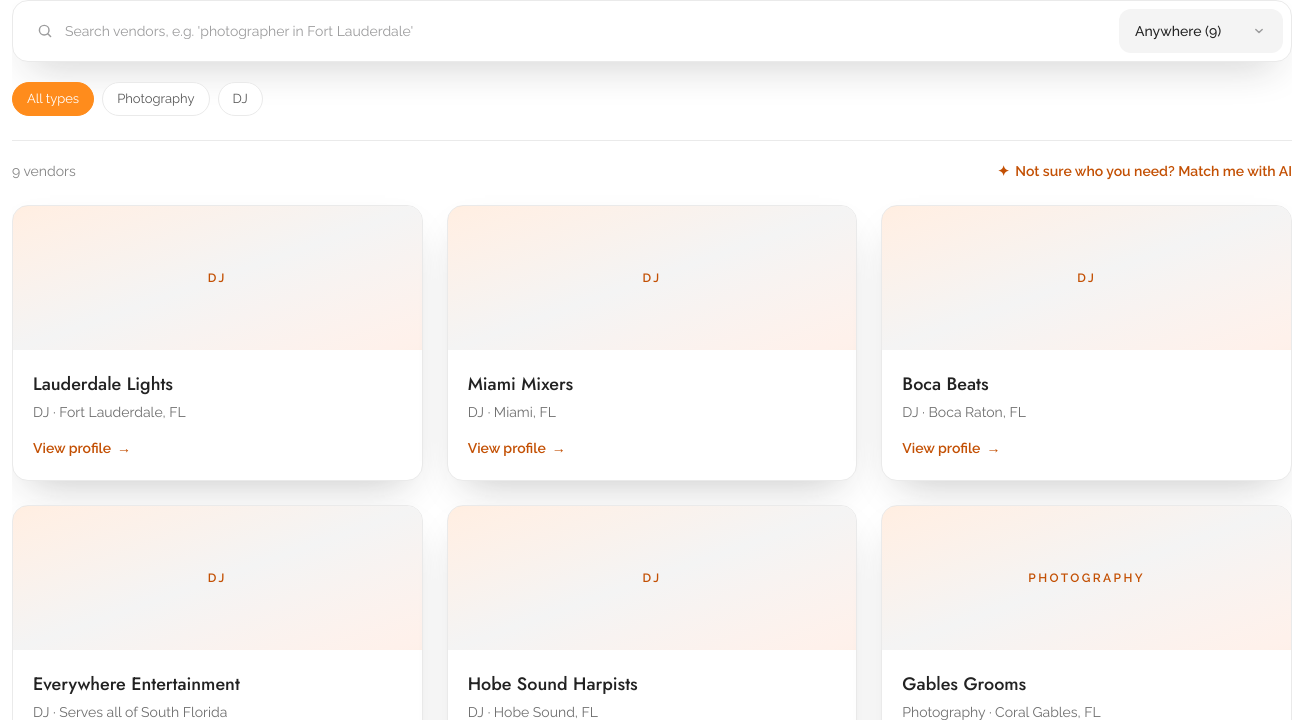
Test: VendorDirectoryList metro and area filters › does not show South Florida vendors under Orlando
Select "Orlando (3)" in the dropdown named "Metro" at (1201, 31), box [1119, 9, 1283, 53]
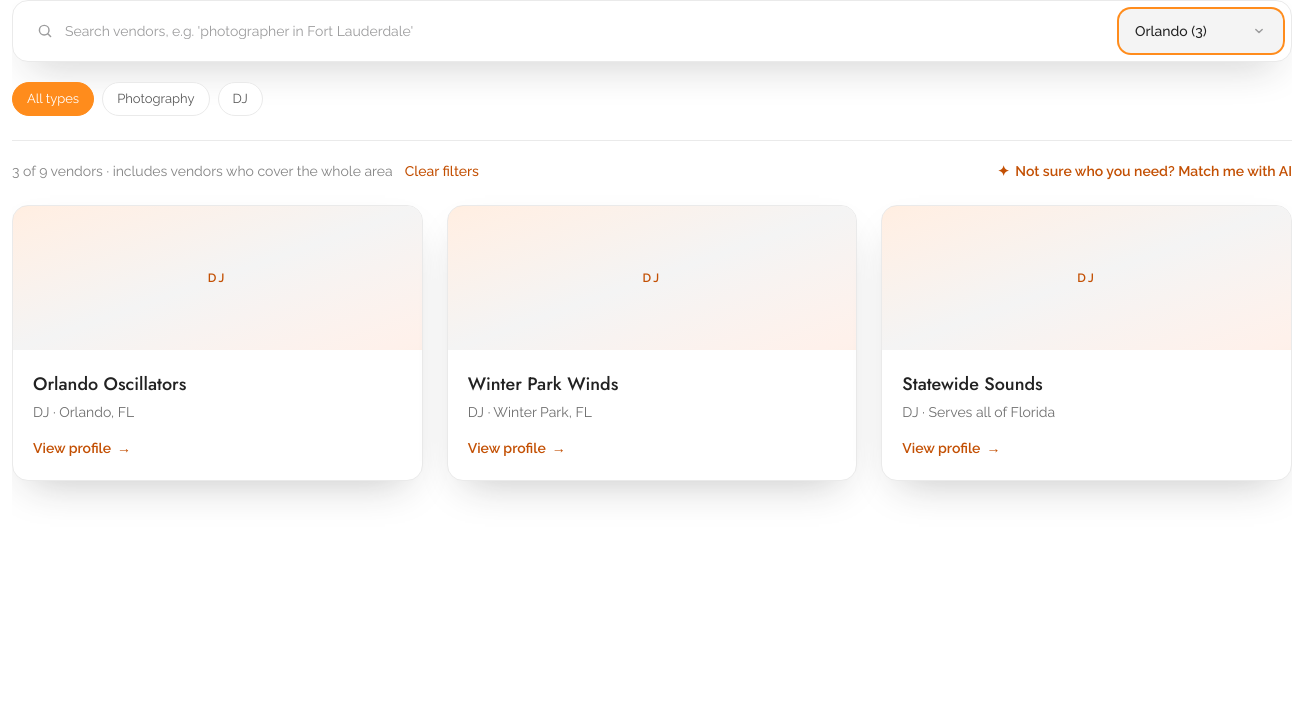
Expected: the heading "Orlando Oscillators" is shown, [33, 370, 186, 396]
Result: the link "Everywhere Entertainment" no longer shows "Everywhere Entertainment"
Result: the link "Lauderdale Lights" no longer shows "Lauderdale Lights"
